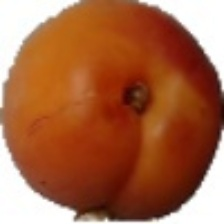apricot: (29, 44, 172, 199)
